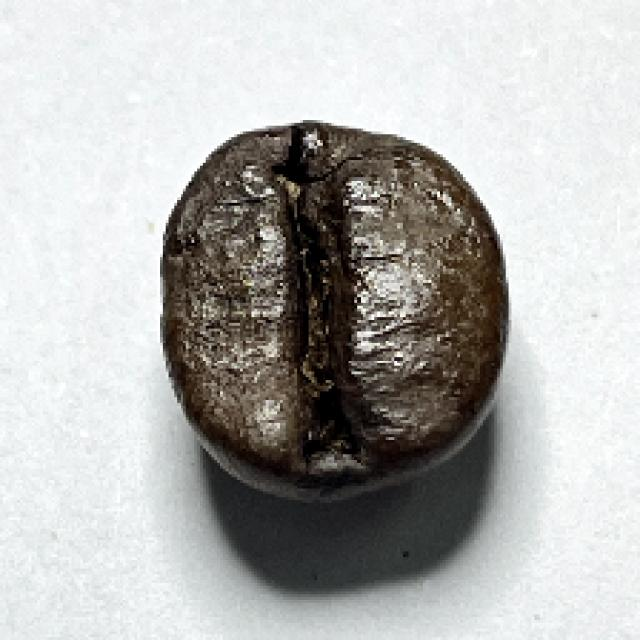bean: (157, 120, 509, 500)
